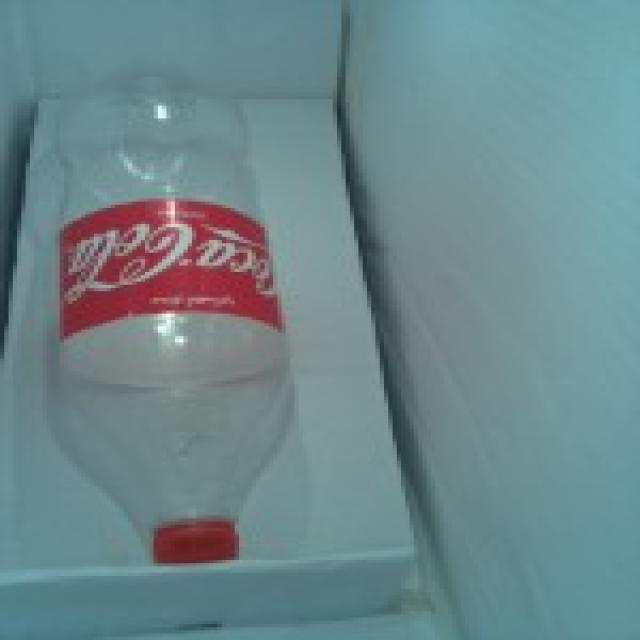bottle: (36, 63, 302, 582)
